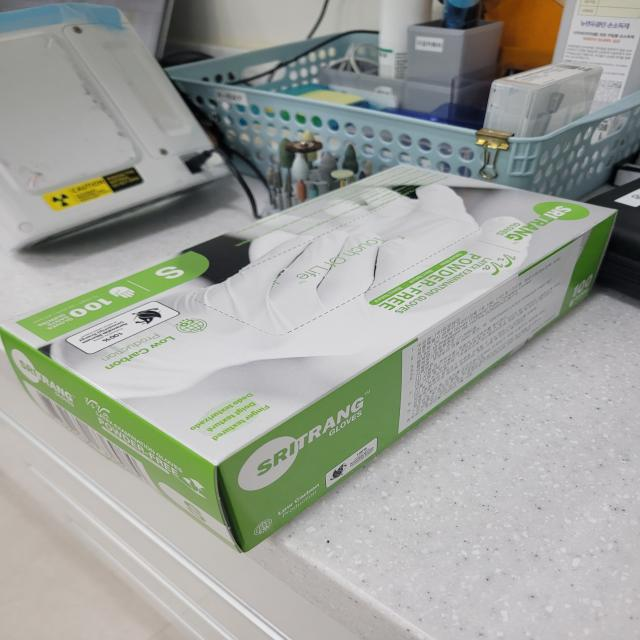glove: (0, 145, 625, 562)
